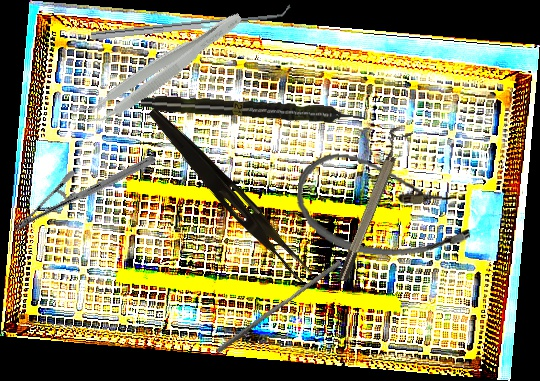Cannula: (291, 149, 478, 265)
Dressing Forceps: (139, 105, 319, 284)
Fixation Ring: (328, 123, 414, 284)
Handpiece: (140, 92, 365, 128)
Needle Holder: (12, 113, 158, 274)
Pusher: (215, 255, 343, 359)
Spatula Surgical: (90, 3, 292, 40)
Tissue Forceps: (74, 0, 248, 135)
